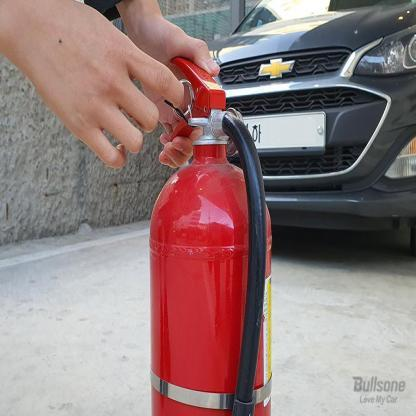Fire Extinguisher: (139, 56, 289, 416)
